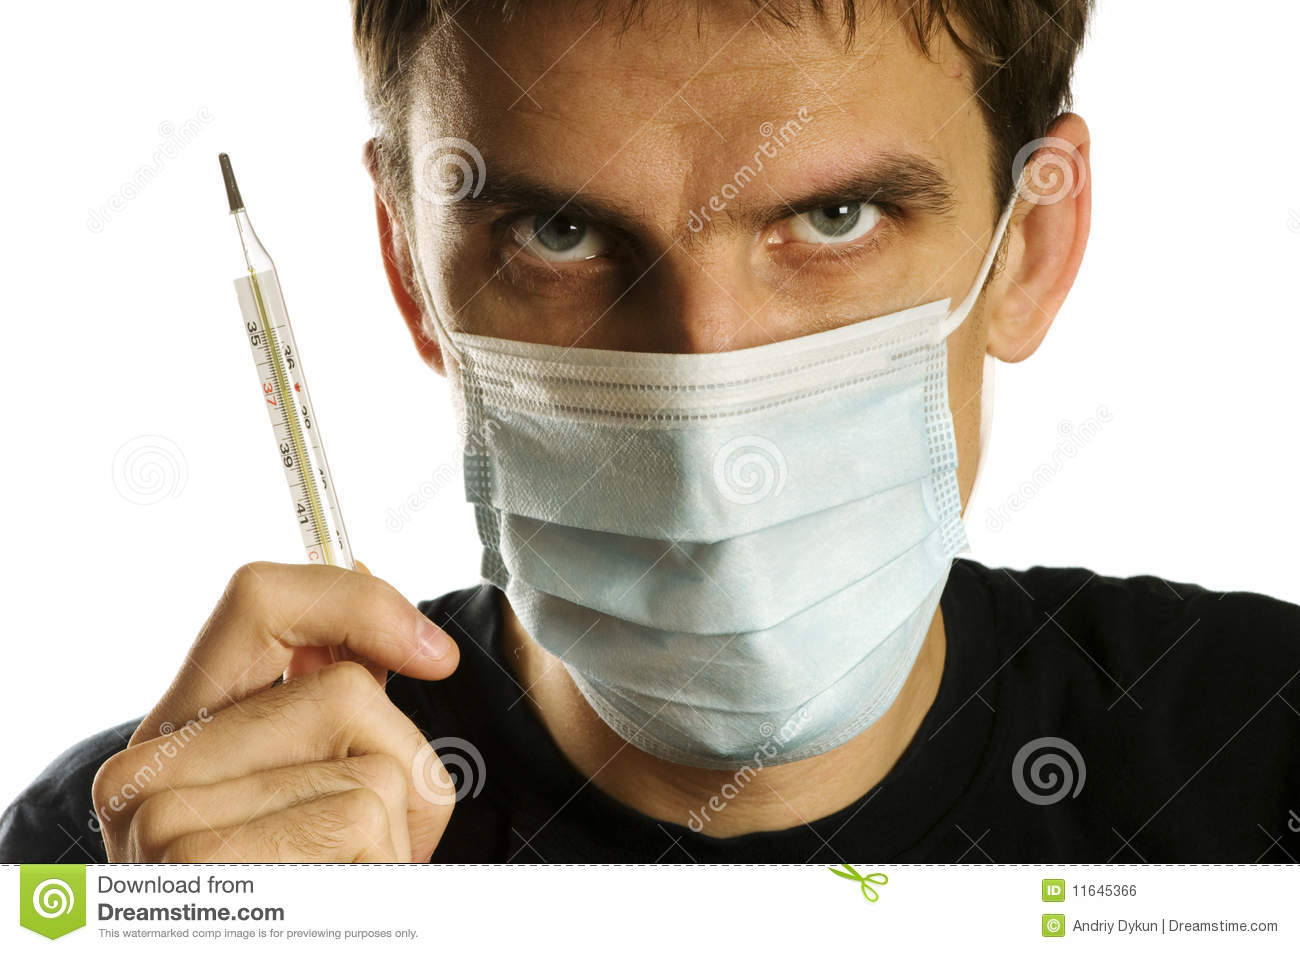mask: (466, 329, 961, 774)
